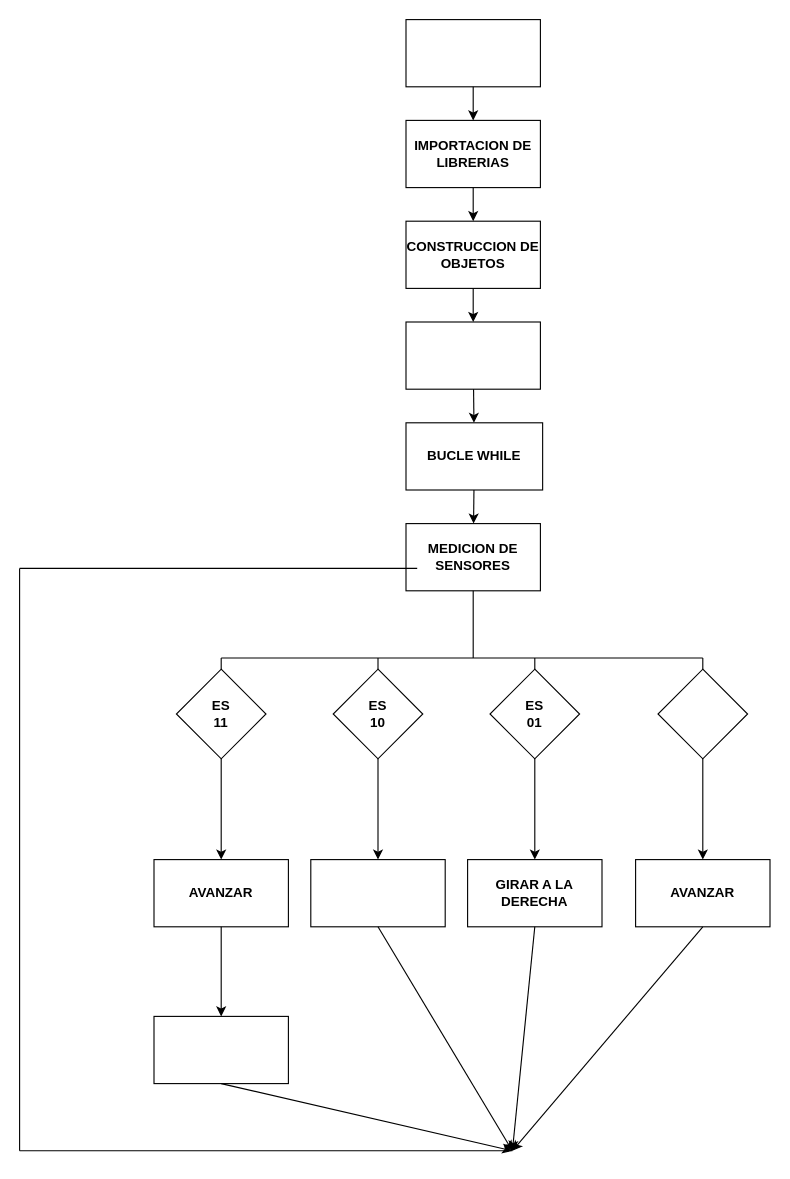
Some shapes in this 790 by 1179 pixel diagram are drawn without their labels. The centre of each missing label's shape, as x and y in pixels:
CONTAR: point 220,1049
DEFINICION DE VARIABLES: point 472,355
ES 00: point 702,713
GIRAR A LA IZQUIERDA: point 377,892
INICIO: point 472,52
